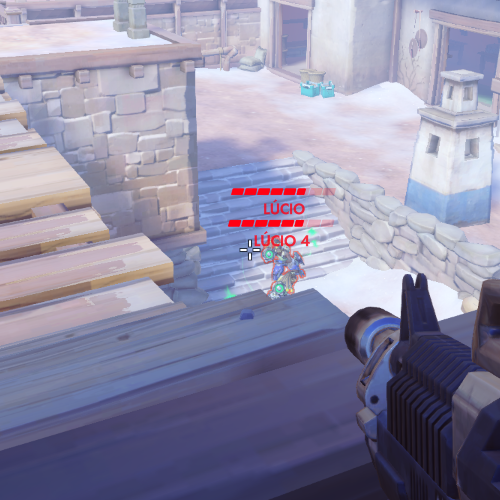hpbar: (227, 219, 335, 228), (230, 187, 337, 196)
